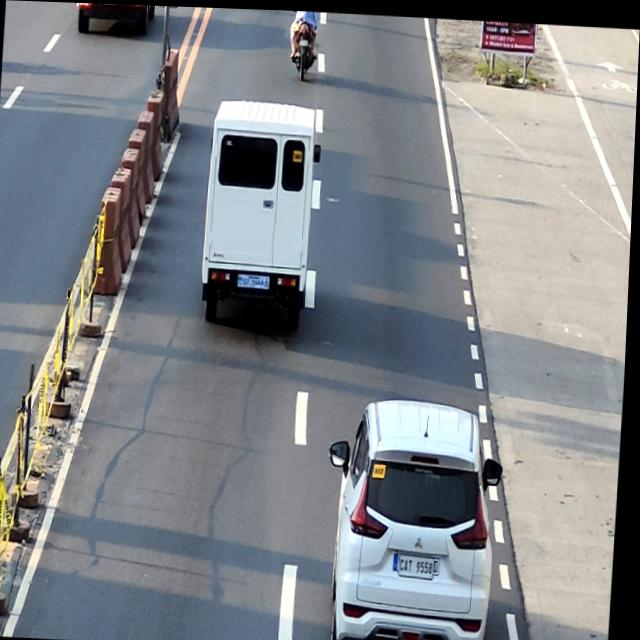Car: (322, 393, 510, 640), (202, 94, 325, 328), (77, 2, 157, 32)
License-Plate: (403, 551, 439, 576), (244, 271, 264, 286), (299, 37, 308, 44)
Motorcycle: (291, 9, 318, 77)
